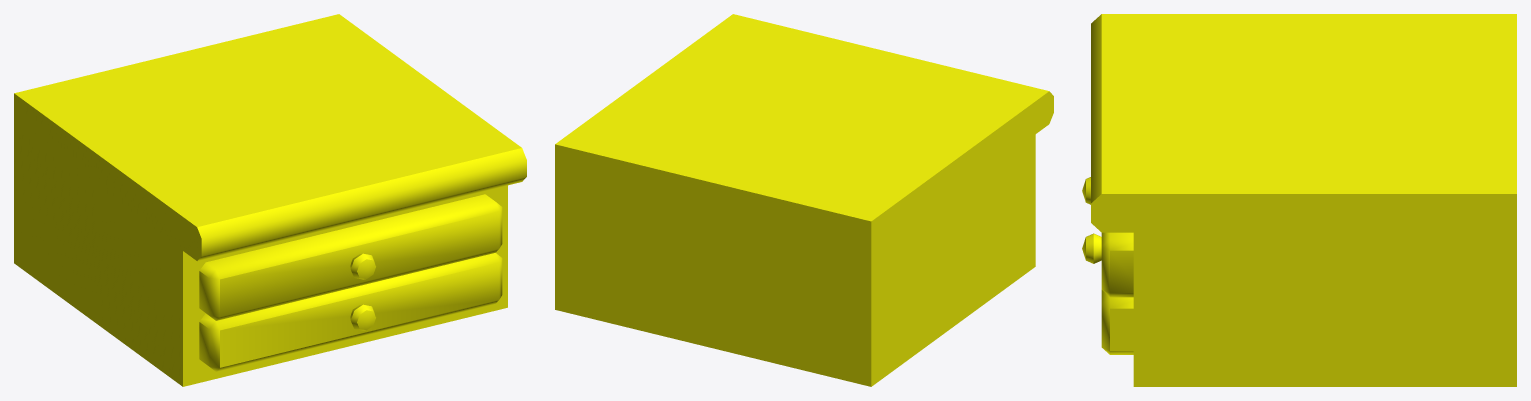
The model's file is kaykit-kitchencounter-straight-a.glb.
3 renders of one model, left to right at view 1: azimuth 30°, elevation 25°; view 2: azimuth 150°, elevation 25°; view 3: azimuth 270°, elevation 25°, orthographic. The views are drawn at different scales.
Visible parts, largest first — view 1: kitchencounter_straight_A; view 2: kitchencounter_straight_A; view 3: kitchencounter_straight_A.
Part boxes in pixels (x1,y1,x2,y2): kitchencounter_straight_A: (14, 14, 526, 386); kitchencounter_straight_A: (555, 14, 1053, 386); kitchencounter_straight_A: (1082, 14, 1516, 386).
Size of the model in its own units: 2 by 0.9999 by 2.04.
